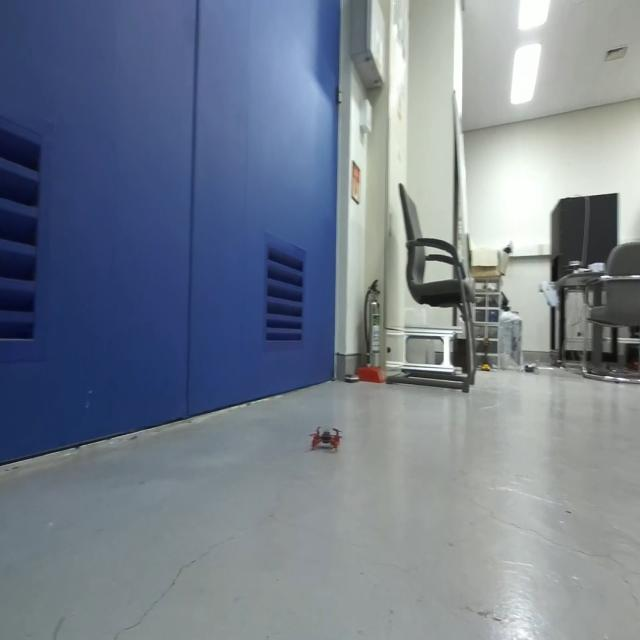crazyflie: (308, 419, 344, 456)
